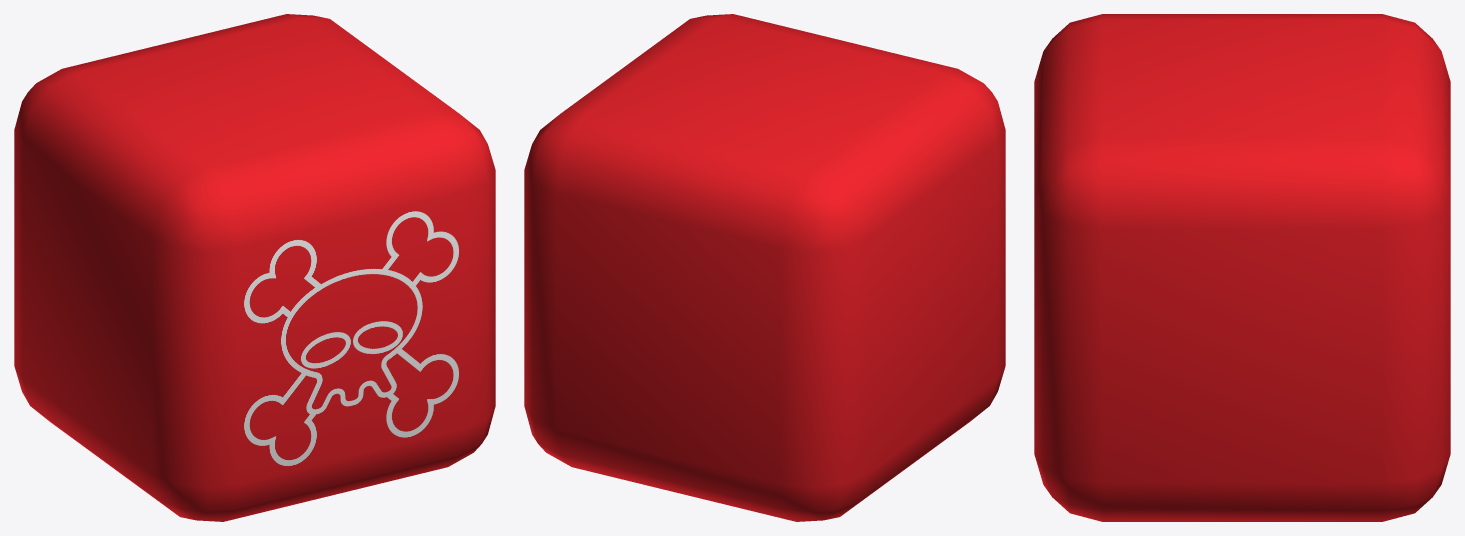
File: CubeObstacle.fbx
The picture shows the model from 3 angles, left to right: view 1: azimuth 30°, elevation 25°; view 2: azimuth 150°, elevation 25°; view 3: azimuth 270°, elevation 25°; orthographic projection. The views are drawn at different scales.
Parts seen in each view (by area): view 1: Cube; view 2: Cube; view 3: Cube.
Boxes of the visible parts, bbox=[...] form: Cube: bbox=[14, 14, 495, 521]; Cube: bbox=[524, 14, 1005, 521]; Cube: bbox=[1034, 14, 1450, 521].
Bounding box in the file's own units: 200 × 200 × 200.
